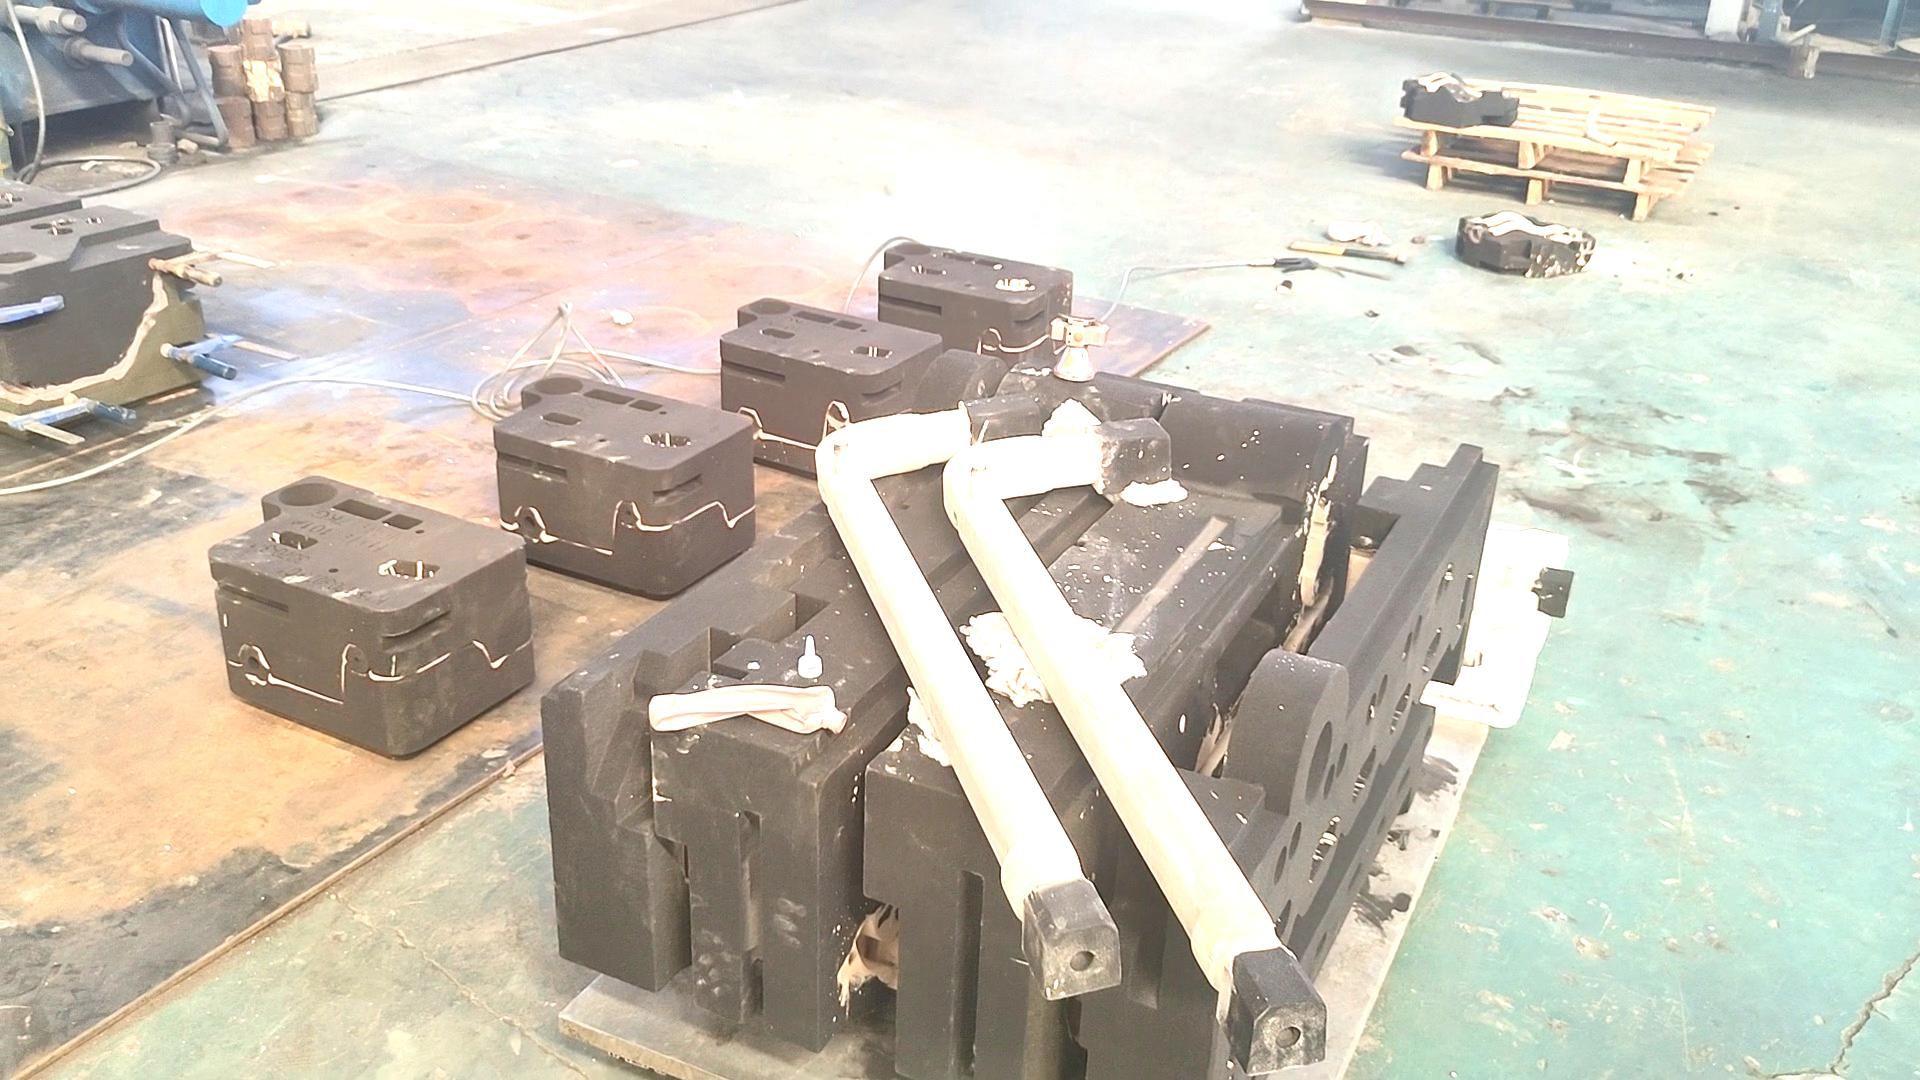pouring hole: (1303, 720, 1333, 807), (277, 483, 338, 506), (533, 376, 584, 396), (748, 299, 790, 316), (1, 249, 37, 266), (893, 243, 930, 256)
